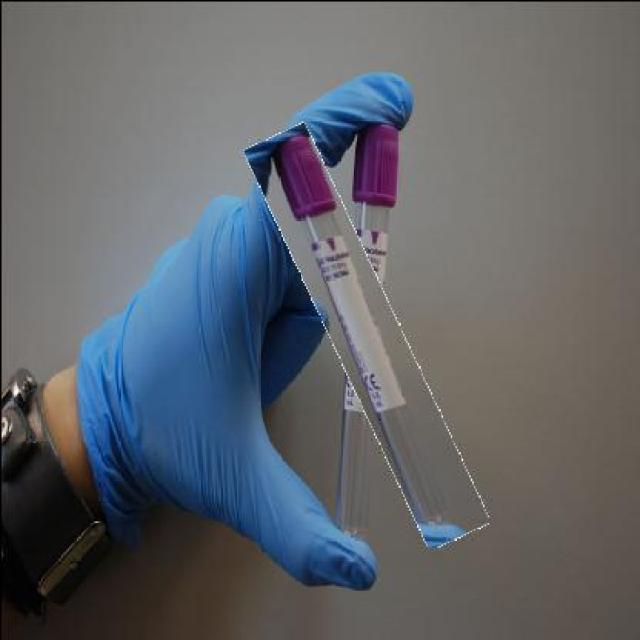Experimental-tube: (286, 118, 445, 552)
